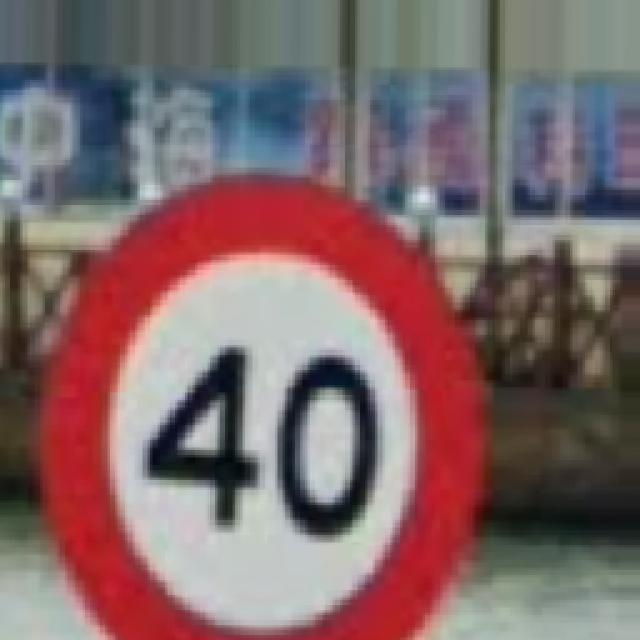Speed Limit -40-: (42, 178, 480, 638)
